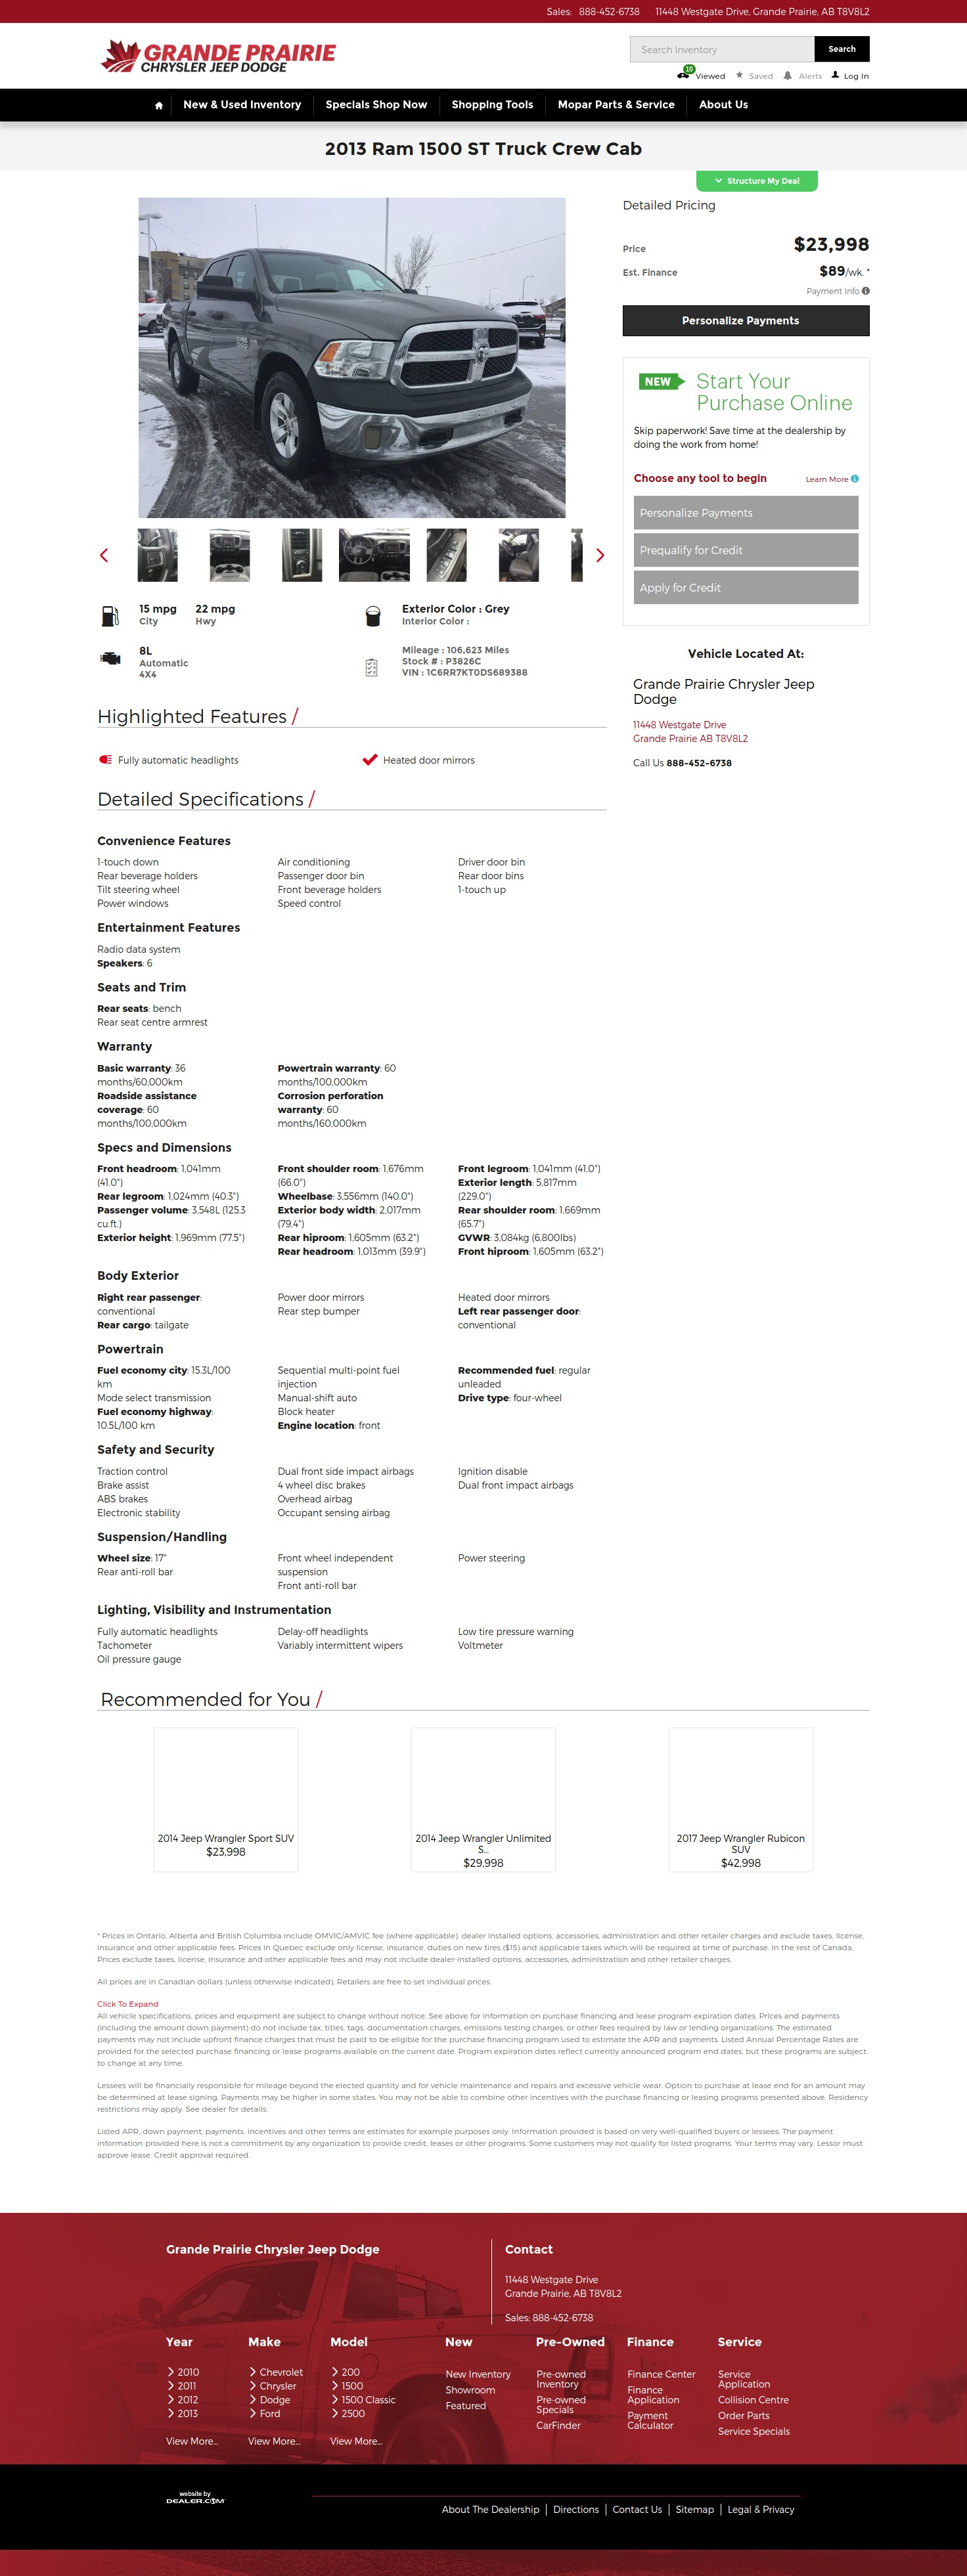car: (597, 549, 605, 563)
